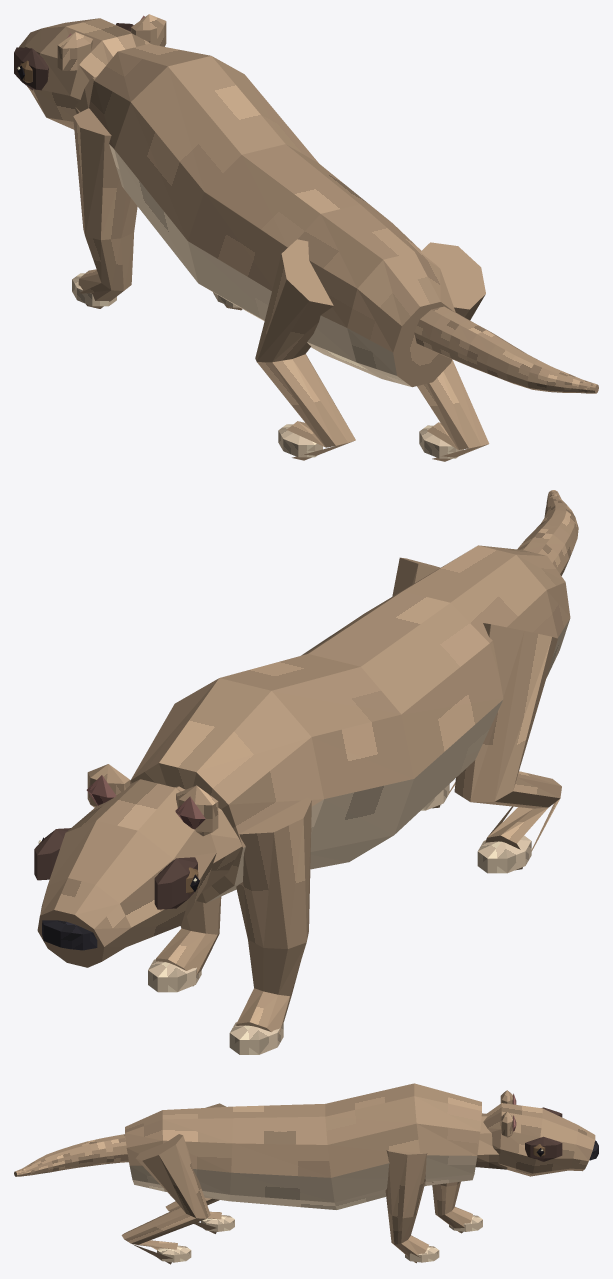
File: mon_ferret.glb
3 views of the same model, one above another, from view 1: azimuth 30°, elevation 25°; view 2: azimuth 150°, elevation 25°; view 3: azimuth 270°, elevation 25° (orthographic). The views are drawn at different scales.
Parts seen in each view (by area): view 1: closed_body; view 2: closed_body; view 3: closed_body.
Boxes of the visible parts, left/top/right/bottom form: closed_body: left=14, top=14, right=598, bottom=461; closed_body: left=34, top=490, right=578, bottom=1054; closed_body: left=14, top=1083, right=598, bottom=1264.
Size of the model in its own units: 0.0509 by 0.0814 by 0.2712.
1 material, 1 textured.
